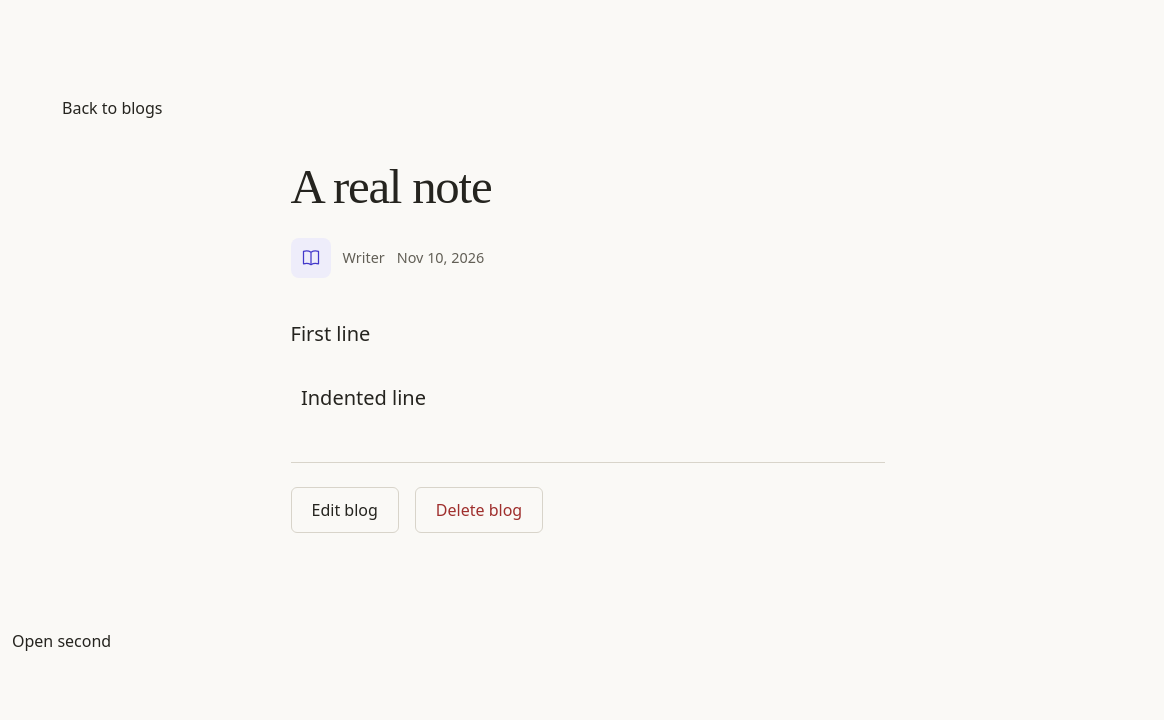
ReadBlog › confirmed user deletion persists and returns to list retaining fresh unrelated records
Click the button "Delete blog".
click(479, 510)  # box [415,487,543,533]
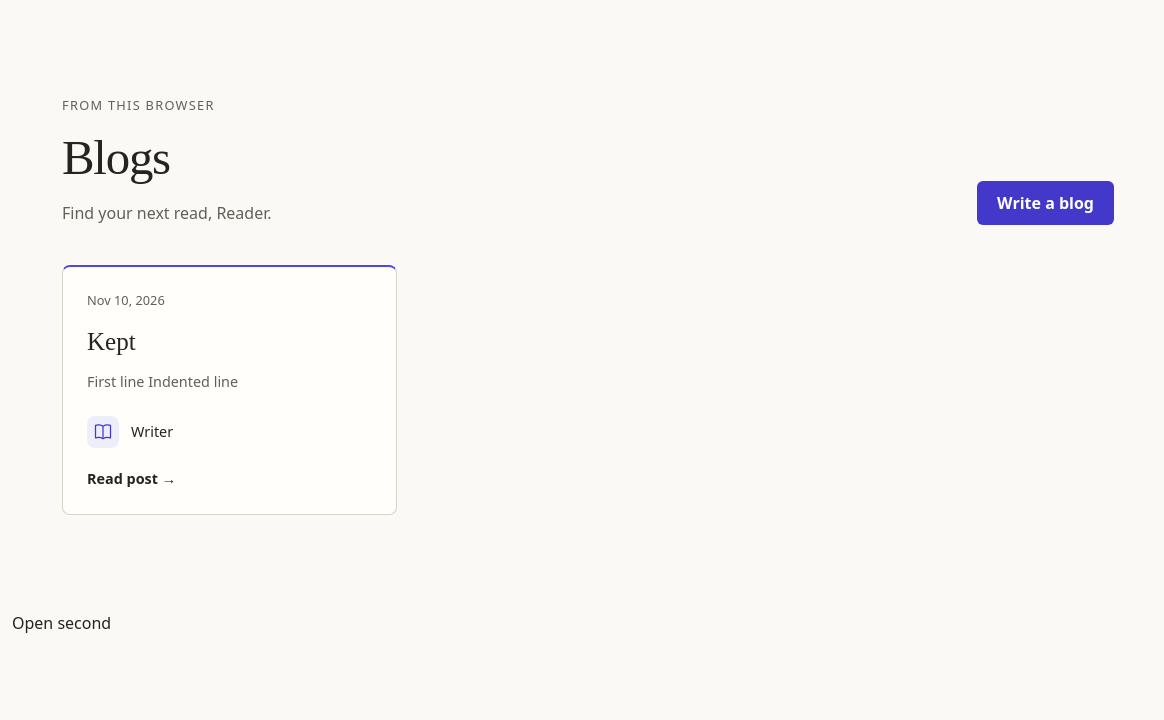
expect the heading "Blogs" is shown: met, box [62,130,170,185]
expect the link with aria-label "Read Kept" is shown: met, box [87,468,176,490]
